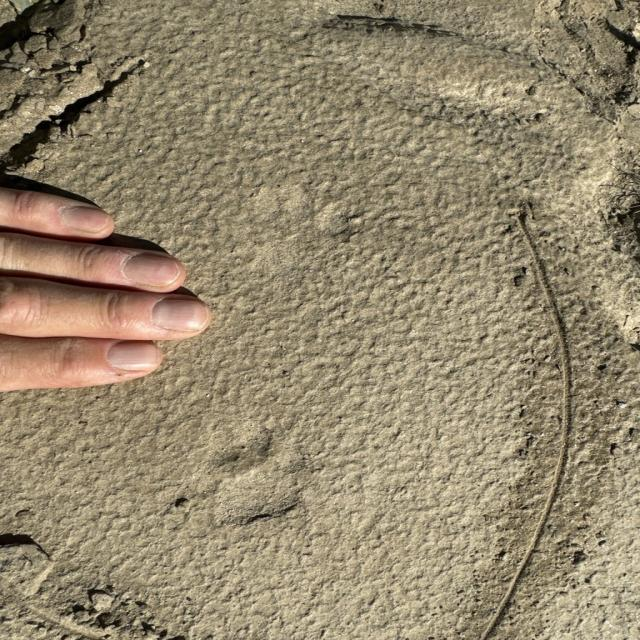felid: (190, 419, 312, 519), (238, 184, 348, 275)
